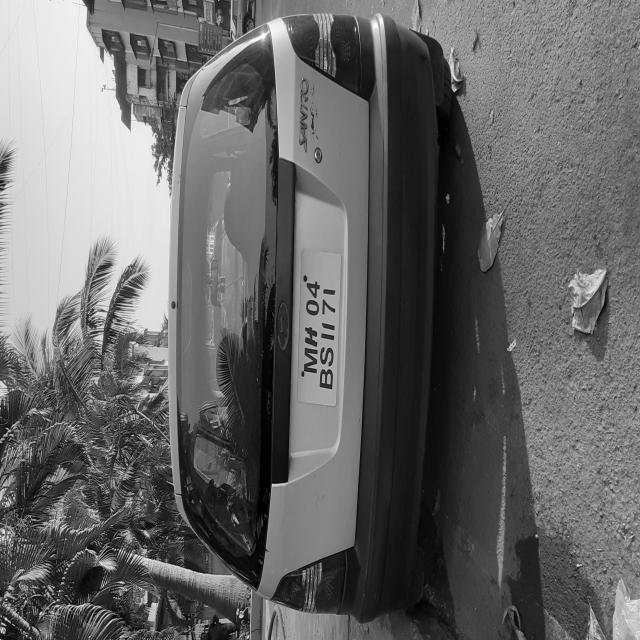car: (2, 350, 304, 640)
license-plate: (86, 588, 210, 640)
